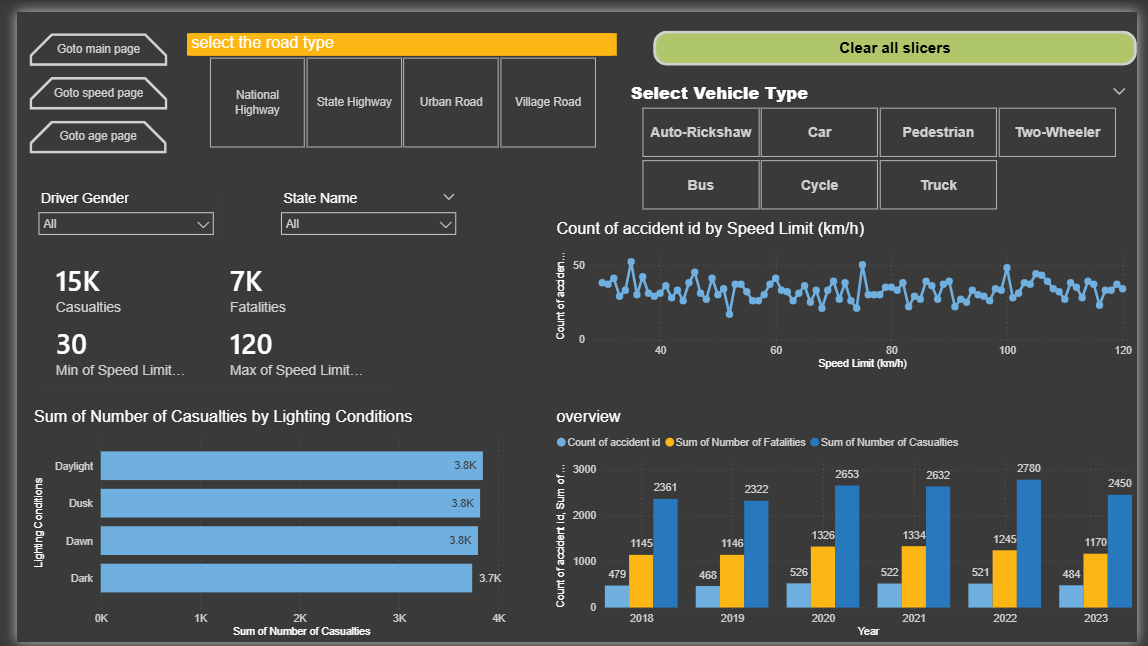

What the dashboard file says about the page in this screenshot:
{"tool":"powerbi","page":{"name":"road type ","canvas":[1280,720],"ordinal":3},"visuals":[{"type":"slicer","fields":{"Values":["accident_prediction_india.Vehicle Type Involved"]},"box":[688.9,74.8,591.2,158],"z":0},{"type":"barChart","fields":{"Y":["Sum(accident_prediction_india.Number of Casualties)"],"Category":["accident_prediction_india.Lighting Conditions"]},"box":[14.9,452,553.8,268.2],"z":1000},{"type":"cardVisual","fields":{"Data":["Sum(accident_prediction_india.Number of Casualties)","Sum(accident_prediction_india.Number of Fatalities)","Min(accident_prediction_india.Speed Limit (km/h))","Max(accident_prediction_india.Speed Limit (km/h))1"]},"box":[14.5,265.4,424.7,170.1],"z":3000},{"type":"lineChart","fields":{"Category":["accident_prediction_india.Speed Limit (km/h)"],"Y":["CountNonNull(accident_prediction_india.accident id)"]},"box":[611.7,236.5,668.4,176.1],"z":4000},{"type":"clusteredColumnChart","title":"overview","fields":{"Y":["CountNonNull(accident_prediction_india.accident id)","Sum(accident_prediction_india.Number of Fatalities)","Sum(accident_prediction_india.Number of Casualties)"],"Category":["accident_prediction_india.Year"]},"box":[612,452,668,268],"z":5000},{"type":"slicer","fields":{"Values":["accident_prediction_india.State Name"]},"box":[292,199.1,220.8,73.6],"z":6000},{"type":"slicer","fields":{"Values":["accident_prediction_india.Driver Gender"]},"box":[14.5,199.1,220.8,66.4],"z":7000},{"type":"actionButton","box":[14.9,23.6,157.7,37.3],"z":8000},{"type":"actionButton","box":[14.9,74.5,157.7,37.3],"z":9000},{"type":"slicer","title":"select the road type","fields":{"Values":["accident_prediction_india.Road Type"]},"box":[194.2,24.1,491,137.5],"z":9001},{"type":"actionButton","box":[14.5,124.3,156.8,37.4],"z":9002},{"type":"actionButton","box":[727.5,21.7,552.5,39.8],"z":9004}]}

Visuals, with their boxes in screenshot pixels (x1, y1, x2, y2), scaled from the page's 1280x720 canvas onto the 1148x646 screenshot:
slicer - accident_prediction_india.Vehicle Type Involved: 618/67/1147/209
barChart - Sum(accident_prediction_india.Number of Casualties) x accident_prediction_india.Lighting Conditions: 13/406/510/645
cardVisual - Sum(accident_prediction_india.Number of Casualties) x Sum(accident_prediction_india.Number of Fatalities): 13/238/394/391
lineChart - accident_prediction_india.Speed Limit (km/h) x CountNonNull(accident_prediction_india.accident id): 549/212/1147/370
"overview" clusteredColumnChart: 549/406/1147/645
slicer - accident_prediction_india.State Name: 262/179/460/245
slicer - accident_prediction_india.Driver Gender: 13/179/211/238
actionButton: 13/21/155/55
actionButton: 13/67/155/100
"select the road type" slicer: 174/22/615/145
actionButton: 13/112/154/145
actionButton: 652/19/1147/55
